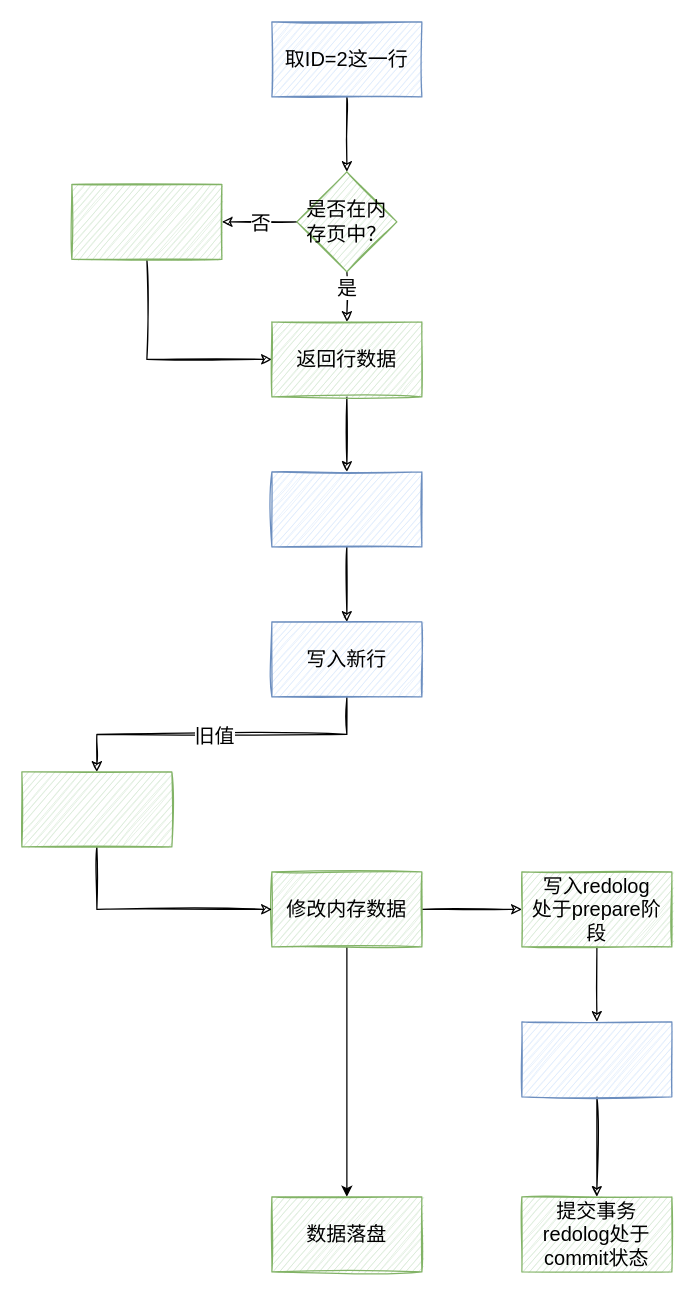
This 694x1294 diagram has some shape labels left out. The shapes that lost their labels are listed below. From the top down, each one's centre as x and y in pixels, then its label:
point (146, 221): 磁盘中读入内存
point (346, 509): 将这行的C值加1
point (96, 809): 写入undolog
point (596, 1059): 写入binlog
